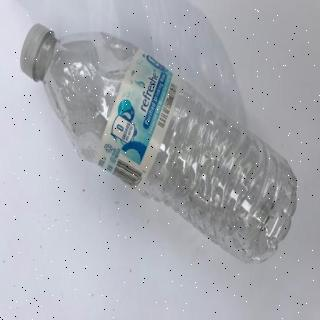Plastic-bottle: (19, 22, 302, 271)
